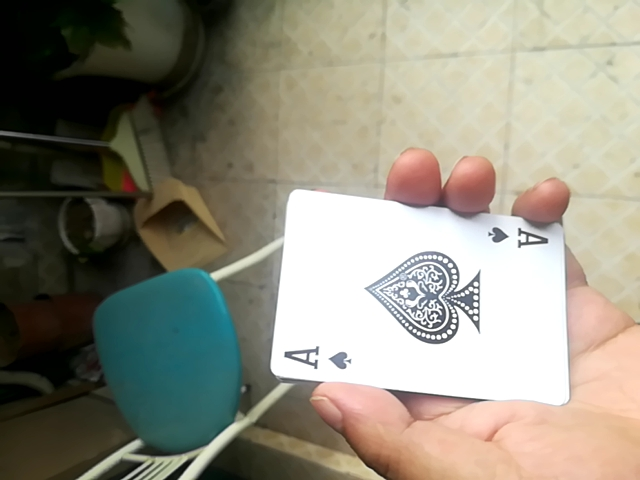ht a: (259, 194, 565, 409)
